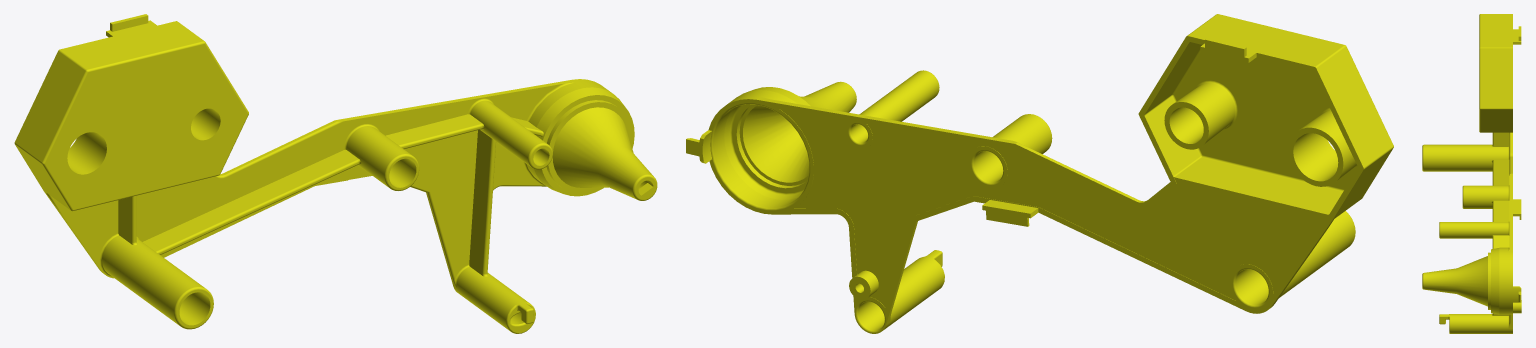
The picture shows the model from 3 angles, left to right: view 1: azimuth 30°, elevation 25°; view 2: azimuth 150°, elevation 25°; view 3: azimuth 270°, elevation 25°; orthographic projection. The views are drawn at different scales.
Visible parts, largest first — view 1: PART 1 BASE A; view 2: PART 1 BASE A; view 3: PART 1 BASE A.
Part boxes in pixels (x1,y1,x2,y2): PART 1 BASE A: [14, 14, 657, 333]; PART 1 BASE A: [686, 14, 1393, 333]; PART 1 BASE A: [1422, 14, 1521, 333].
Bounding box in the file's own units: 19.78 × 10.81 × 4.7.
